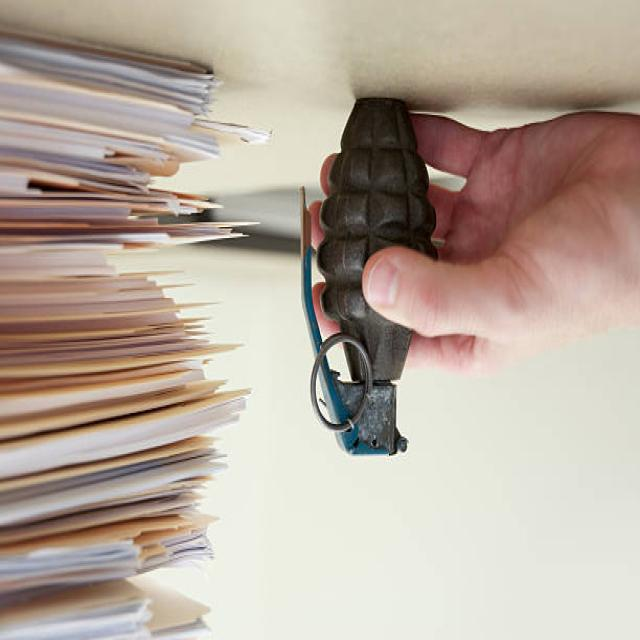grenade: (301, 92, 441, 463)
